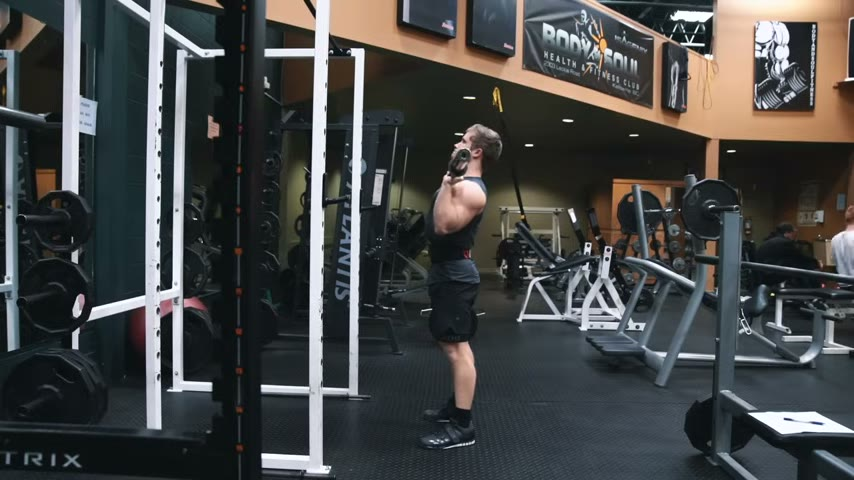barbell_plate_side: (125, 181, 229, 449)
